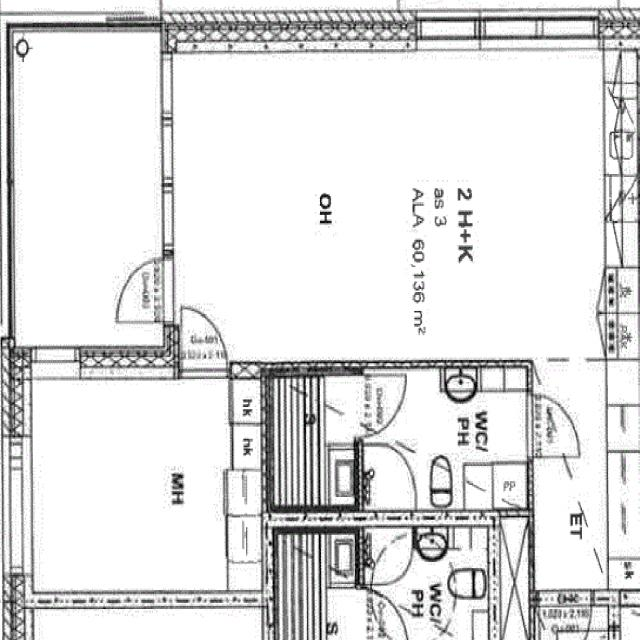door: (113, 257, 174, 322), (179, 298, 227, 378), (526, 396, 580, 458), (354, 378, 407, 438), (540, 589, 592, 640)
